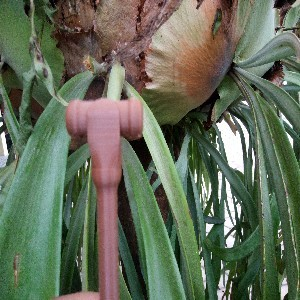palu: (65, 94, 145, 300)
